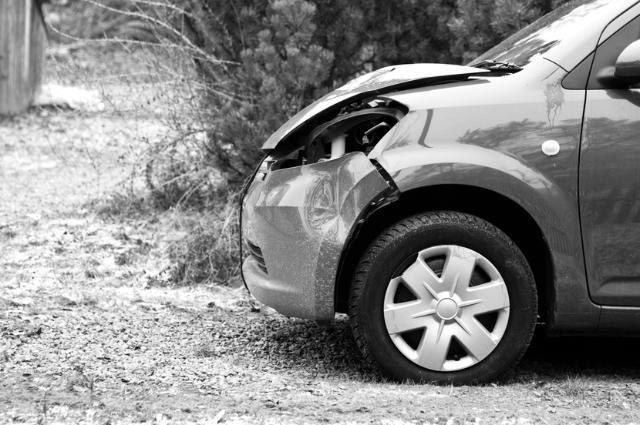Bonnet: (260, 61, 497, 151)
Bumper: (240, 155, 387, 319)
Light: (275, 110, 411, 166)
